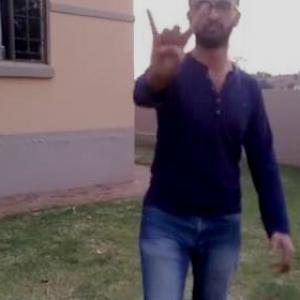takeoff-hand: (139, 4, 211, 86)
